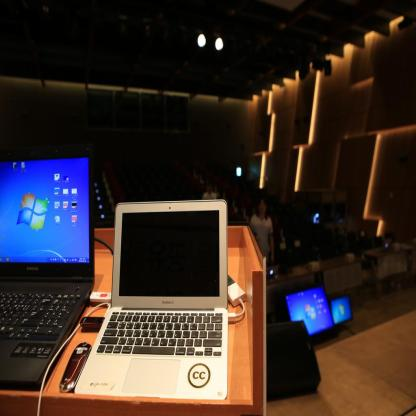board: (66, 194, 233, 404), (0, 144, 95, 390)
